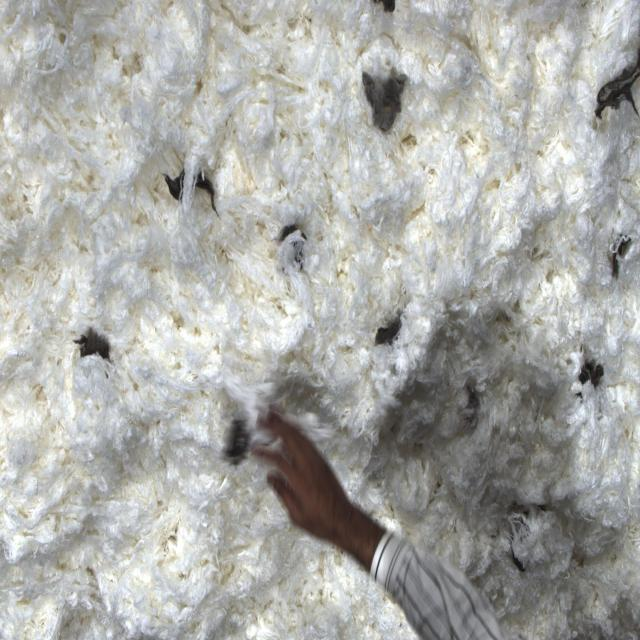dust: (207, 380, 261, 509), (587, 28, 639, 148), (271, 190, 318, 300), (363, 286, 411, 382), (357, 60, 413, 136), (594, 215, 639, 294), (71, 305, 112, 386), (157, 143, 196, 225), (504, 507, 546, 578), (568, 355, 610, 400), (192, 167, 219, 226), (367, 0, 407, 33)
